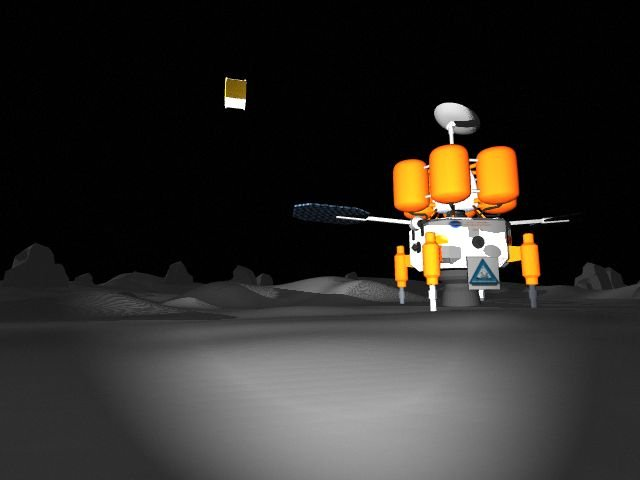homebase: (294, 99, 591, 316)
